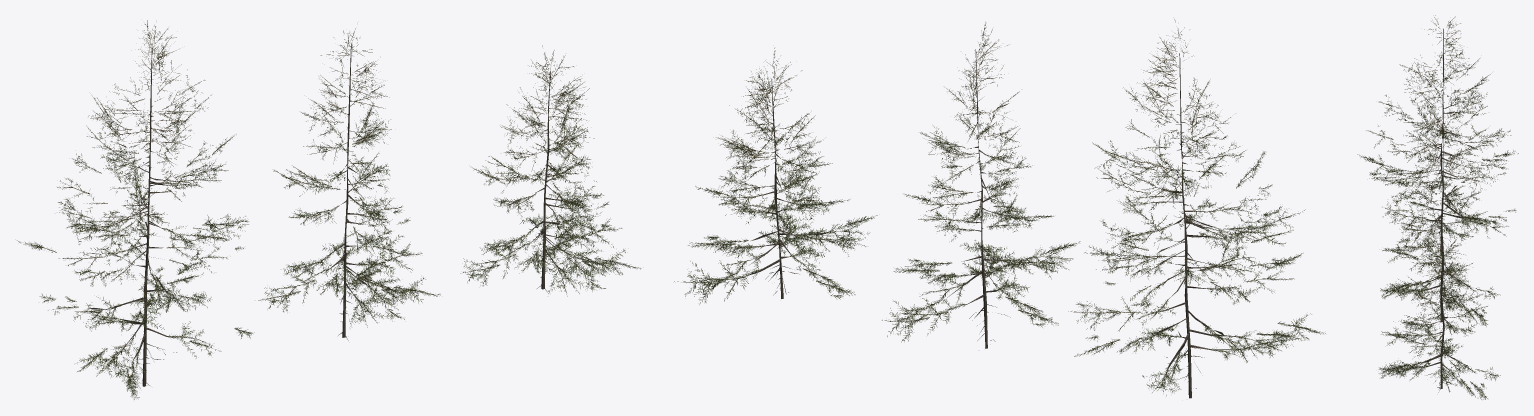
Rendered from fir_sapling_medium.glb.
3 views of the same model, side by side, from view 1: azimuth 30°, elevation 25°; view 2: azimuth 150°, elevation 25°; view 3: azimuth 270°, elevation 25° (orthographic). The views are drawn at different scales.
Parts seen in each view (by area): view 1: fir_sapling_medium_a_LOD0; view 2: fir_sapling_medium_a_LOD0; view 3: fir_sapling_medium_a_LOD0.
Part boxes in pixels (left/top/right/bottom): fir_sapling_medium_a_LOD0: left=17, top=20, right=641, bottom=399; fir_sapling_medium_a_LOD0: left=674, top=19, right=1325, bottom=398; fir_sapling_medium_a_LOD0: left=1357, top=15, right=1518, bottom=399.
Size of the model in its own units: 14.7 by 8.85 by 5.18.
Materials: 3 (3 with a texture image).
